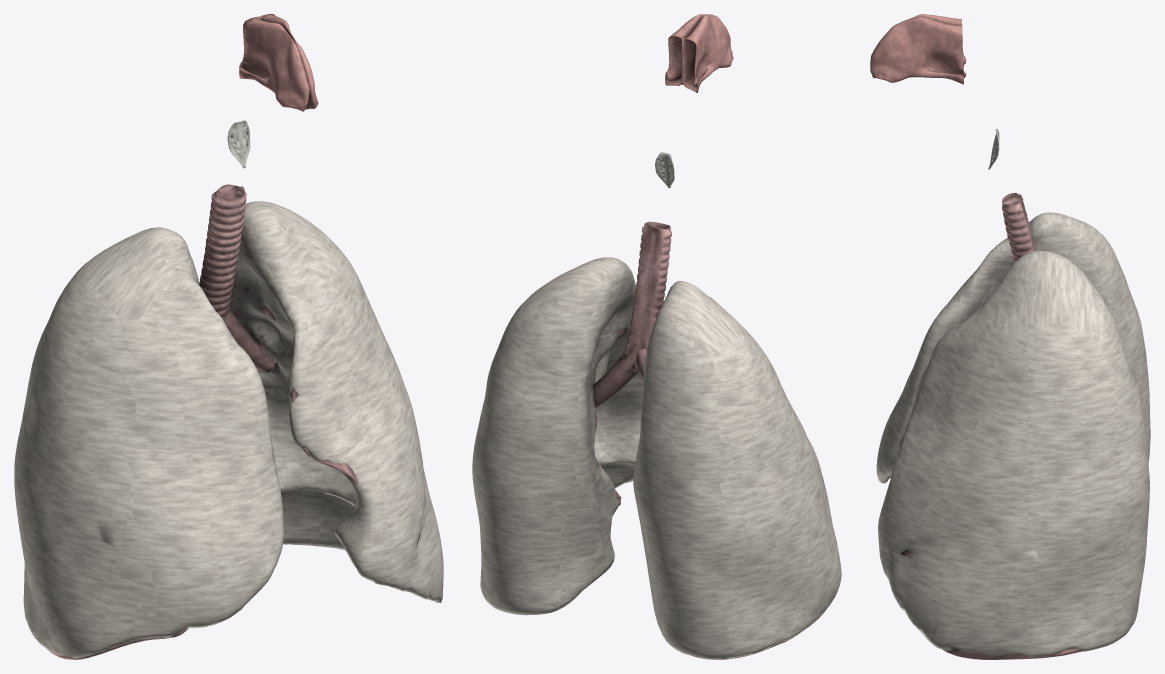
File: respiratory.opt.glb
The picture shows the model from 3 angles, left to right: view 1: azimuth 30°, elevation 25°; view 2: azimuth 150°, elevation 25°; view 3: azimuth 270°, elevation 25°; orthographic projection. The views are drawn at different scales.
Parts seen in each view (by area): view 1: pleura, mucosa-of-nasal-cavity, trachea, left-main-bronchus, epiglottis; view 2: pleura, mucosa-of-nasal-cavity, trachea, left-main-bronchus; view 3: pleura, mucosa-of-nasal-cavity, trachea, inferior-lobe-of-left-lung.
Part boxes in pixels (x1,y1,x2,y2): pleura: [14, 201, 443, 658]; mucosa-of-nasal-cavity: [239, 14, 318, 111]; trachea: [199, 184, 246, 316]; left-main-bronchus: [221, 310, 273, 371]; epiglottis: [227, 120, 250, 168]; pleura: [472, 257, 841, 659]; mucosa-of-nasal-cavity: [665, 14, 733, 92]; trachea: [621, 221, 671, 372]; left-main-bronchus: [593, 344, 637, 407]; pleura: [876, 212, 1150, 657]; mucosa-of-nasal-cavity: [870, 14, 966, 84]; trachea: [1002, 193, 1035, 261]; inferior-lobe-of-left-lung: [942, 648, 1082, 659].
Size of the model in its own units: 0.2634 by 0.4306 by 0.1927.
4 materials, 4 textured.
